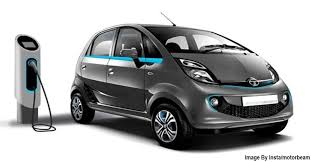Nano: (69, 21, 295, 150)
